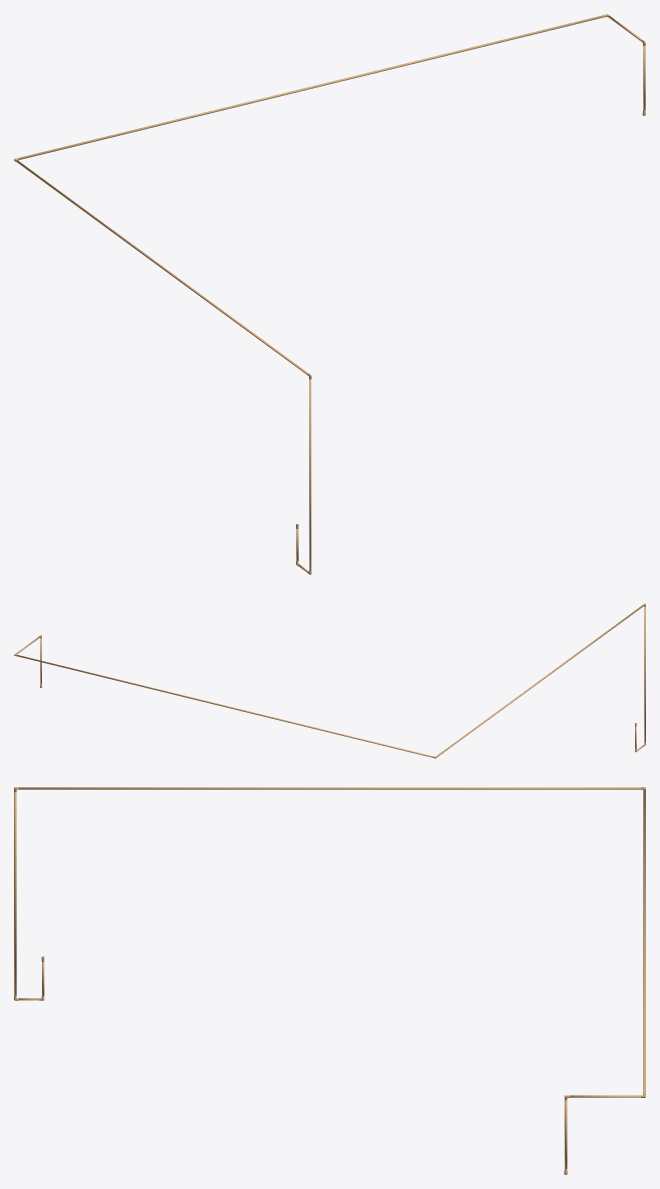
The model's file is slab_pipes_supply__water-well_and_softener-no_and_flowsmart-yes_and_plumbing-copper.glb.
3 views of the same model, one above another, from view 1: azimuth 30°, elevation 25°; view 2: azimuth 150°, elevation 25°; view 3: azimuth 270°, elevation 25° (orthographic). The views are drawn at different scales.
Visible parts, largest first — view 1: pipe_supply_well_to_house_fs__copper; view 2: pipe_supply_well_to_house_fs__copper; view 3: pipe_supply_well_to_house_fs__copper.
Part boxes in pixels (bbox=[...]): pipe_supply_well_to_house_fs__copper: bbox=[16, 15, 645, 572]; pipe_supply_well_to_house_fs__copper: bbox=[16, 604, 645, 757]; pipe_supply_well_to_house_fs__copper: bbox=[14, 787, 645, 1169].
Bounding box in the file's own units: 6.61 × 2.12 × 5.7.
